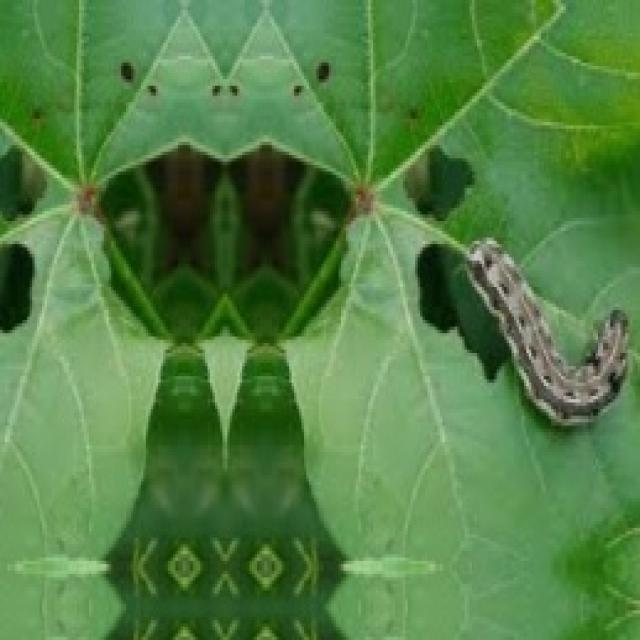armyworm: (462, 234, 628, 426)
